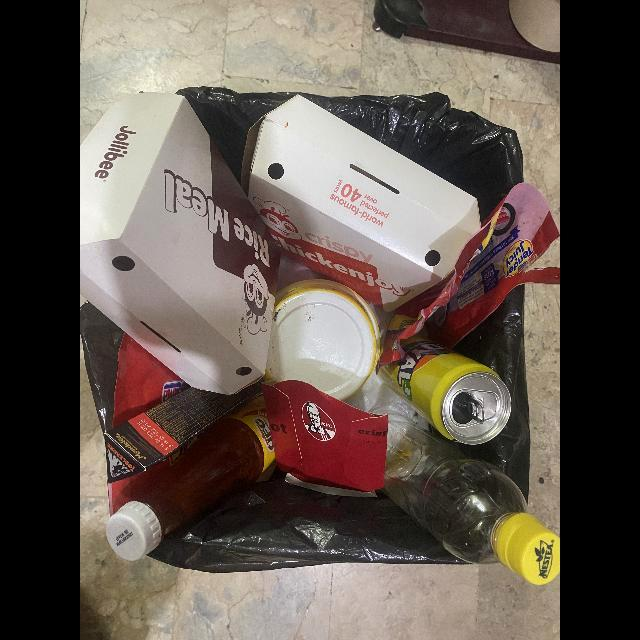aluminum: (373, 337, 510, 442)
cardboard: (80, 93, 283, 393), (238, 95, 483, 313), (105, 380, 263, 485), (264, 381, 390, 490)
food_wrapper: (378, 183, 560, 366)
plastic_bottle: (379, 408, 560, 583)
